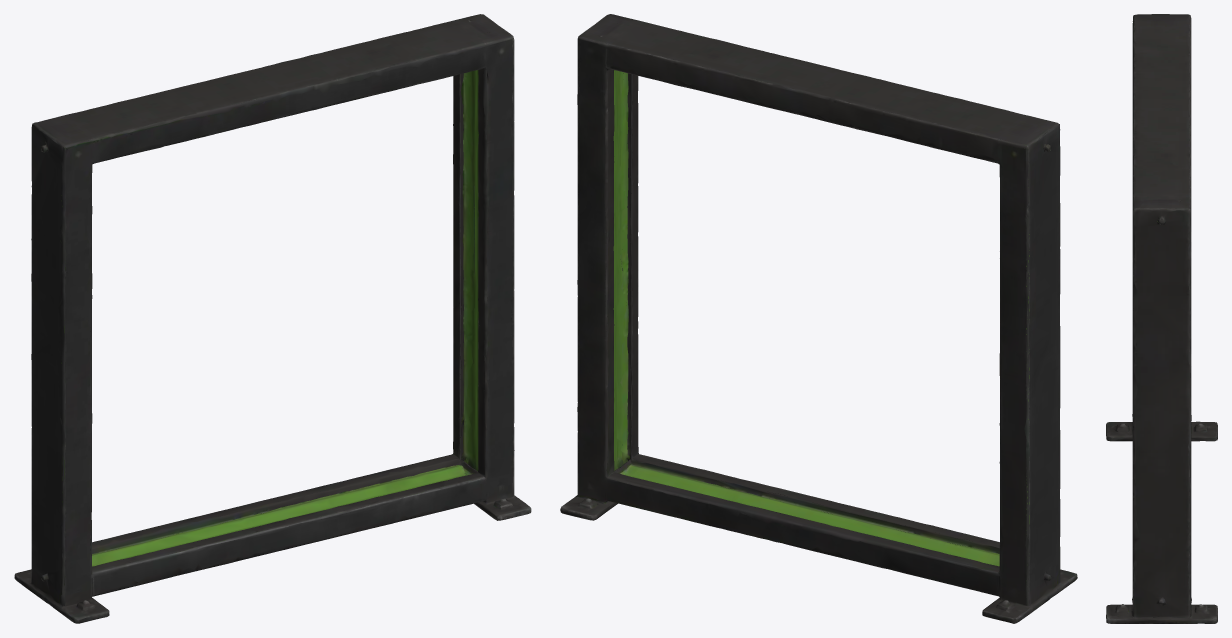
The model's file is prop-gate.glb.
3 views of the same model, side by side, from view 1: azimuth 30°, elevation 25°; view 2: azimuth 150°, elevation 25°; view 3: azimuth 270°, elevation 25° (orthographic). The views are drawn at different scales.
Parts seen in each view (by area): view 1: Mesh_0; view 2: Mesh_0; view 3: Mesh_0.
Part boxes in pixels (left/top/right/bottom): Mesh_0: left=14, top=14, right=531, bottom=623; Mesh_0: left=560, top=14, right=1077, bottom=623; Mesh_0: left=1106, top=14, right=1217, bottom=623.
Size of the model in its own units: 1 by 0.9714 by 0.2368.
Materials: 1 (1 with a texture image).
